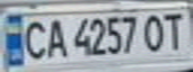2: (87, 15, 109, 56)
4: (69, 15, 90, 57)
5: (106, 13, 124, 55)
7: (121, 12, 142, 54)
A: (42, 16, 69, 60)
C: (18, 17, 51, 61)
O: (142, 11, 169, 53)
T: (160, 9, 190, 52)
